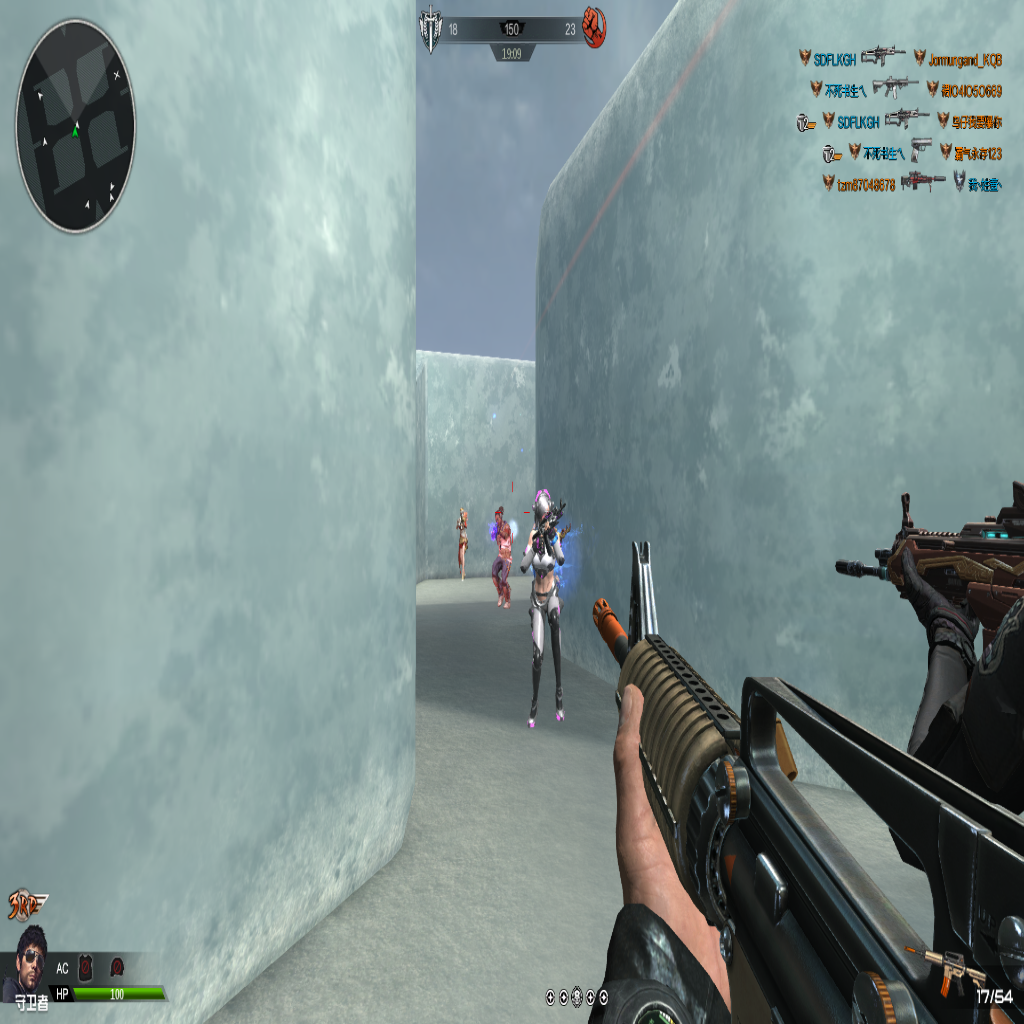tt: (521, 492, 564, 722), (493, 508, 514, 607), (457, 505, 468, 583)
